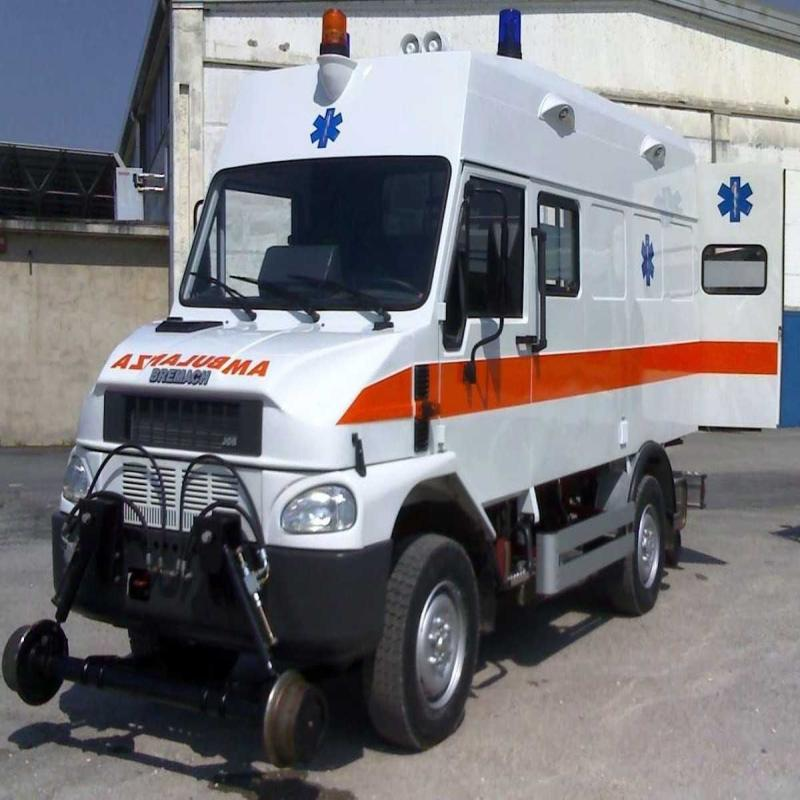AmbulanceSiren: (484, 7, 534, 91), (302, 18, 372, 70)
